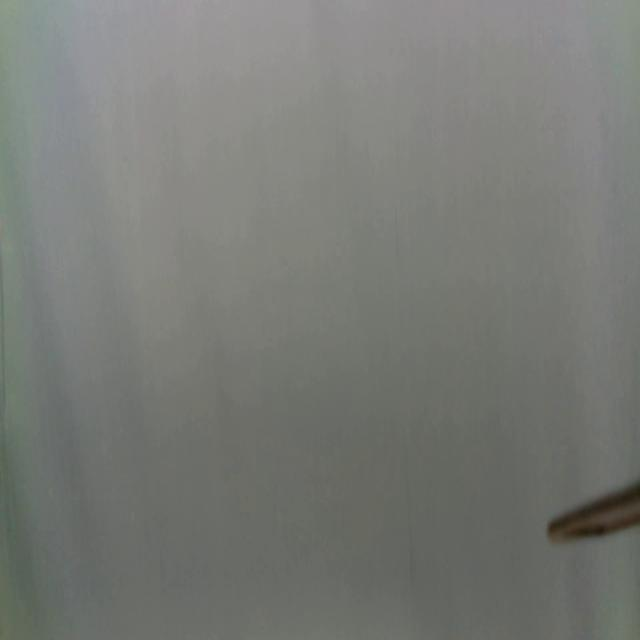crease: (0, 249, 11, 414), (405, 466, 418, 592)
